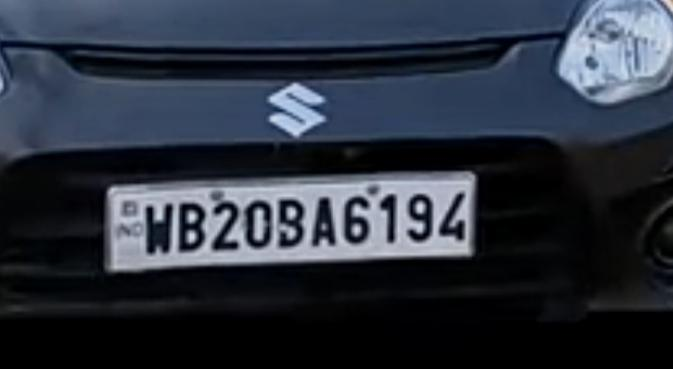0: (243, 198, 278, 250)
1: (377, 189, 401, 248)
2: (205, 199, 245, 256)
4: (439, 183, 472, 250)
6: (339, 184, 376, 249)
9: (402, 184, 438, 252)
A: (308, 192, 341, 252)
B: (176, 198, 211, 255), (274, 194, 306, 253)
W: (143, 199, 176, 258)
